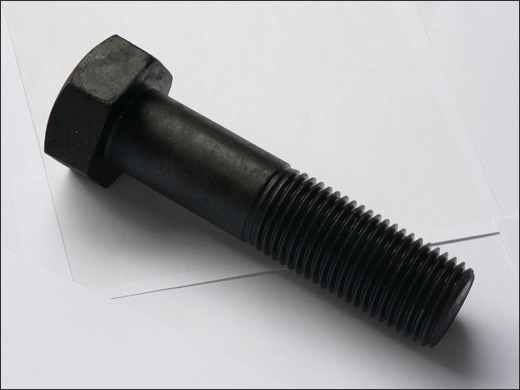screw: (44, 35, 475, 348)
